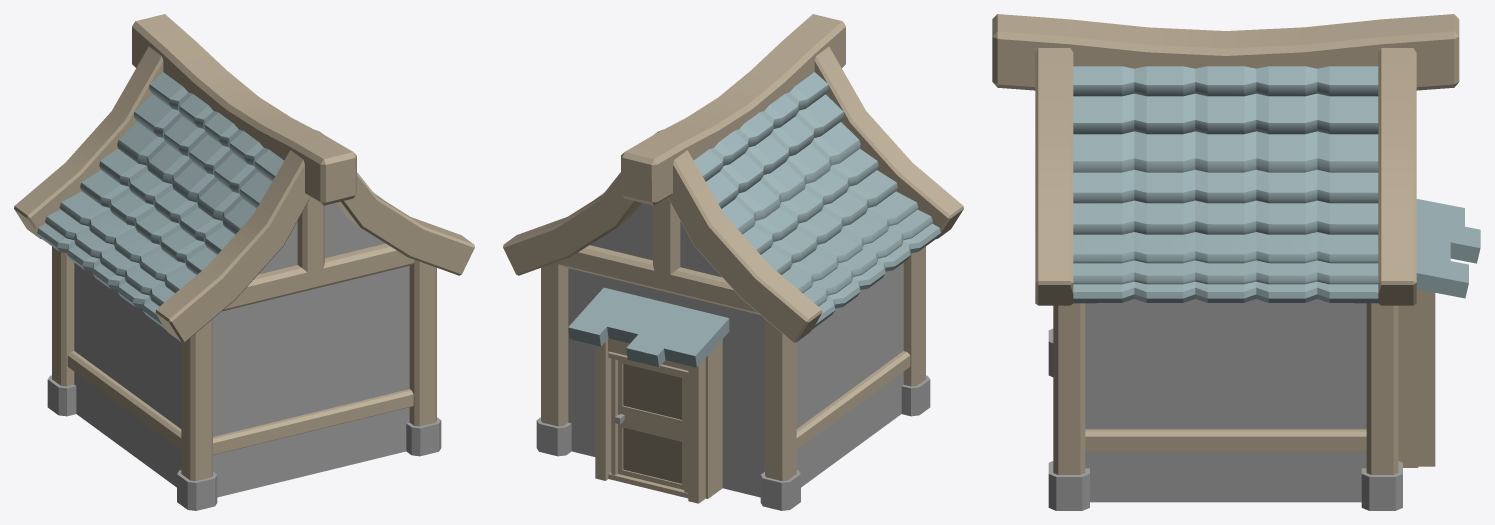
Rendered from House02.fbx.
3 renders of one model, left to right at view 1: azimuth 30°, elevation 25°; view 2: azimuth 150°, elevation 25°; view 3: azimuth 270°, elevation 25°, orthographic. The views are drawn at different scales.
Visible parts, largest first — view 1: polySurface1; view 2: polySurface1; view 3: polySurface1.
Boxes of the visible parts, x1,y1,x2,y2 form: polySurface1: (14,14,474,510); polySurface1: (503,14,963,510); polySurface1: (992,14,1480,510).
Bounding box in the file's own units: 13.48 × 14.36 × 15.37.
